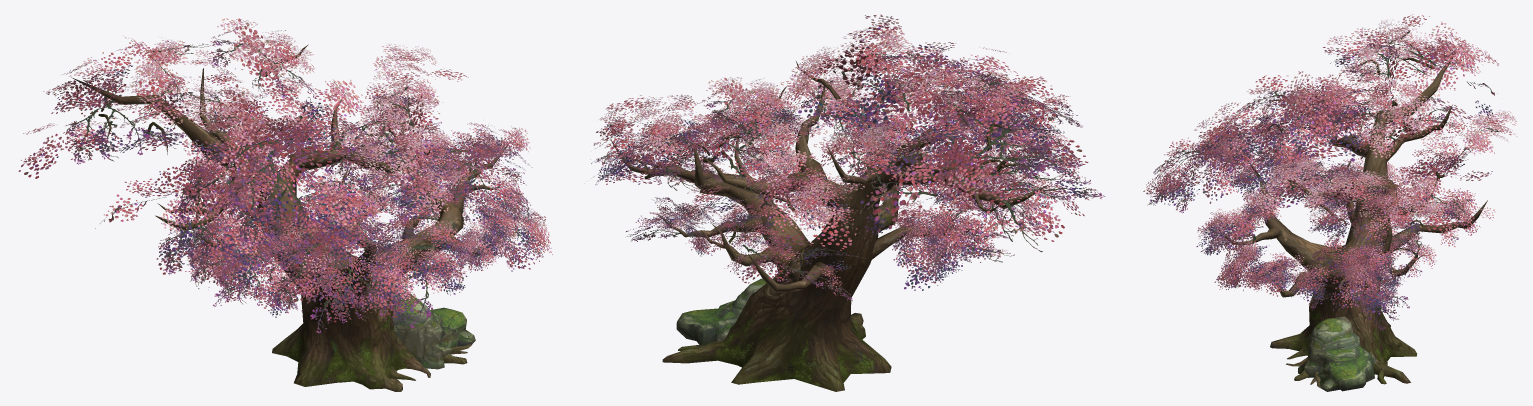
File: 1004_Item_shu_1.FBX
3 renders of one model, left to right at view 1: azimuth 30°, elevation 25°; view 2: azimuth 150°, elevation 25°; view 3: azimuth 270°, elevation 25°, orthographic. The views are drawn at different scales.
Parts seen in each view (by area): view 1: 1004_Item_shu_1; view 2: 1004_Item_shu_1; view 3: 1004_Item_shu_1.
Part boxes in pixels (x1,y1,x2,y2): 1004_Item_shu_1: (18, 18, 552, 391); 1004_Item_shu_1: (590, 14, 1105, 391); 1004_Item_shu_1: (1143, 14, 1516, 391).
Size of the model in its own units: 3496 by 3031 by 2429.
